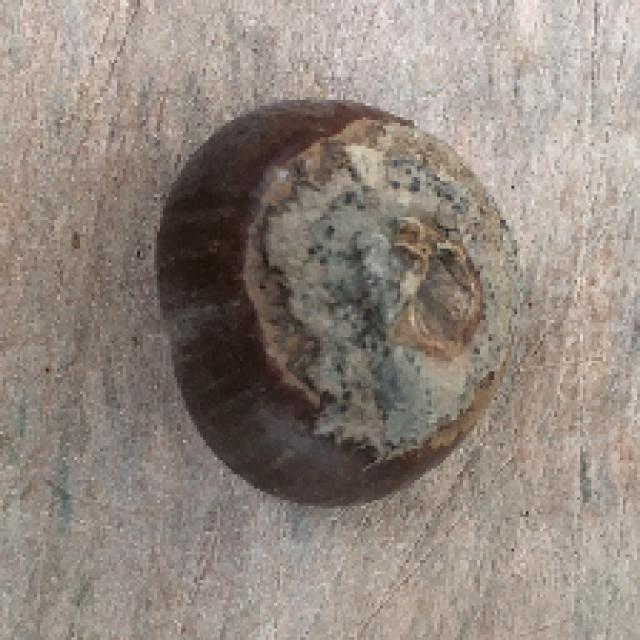damagedHazelnut: (154, 101, 529, 514)
